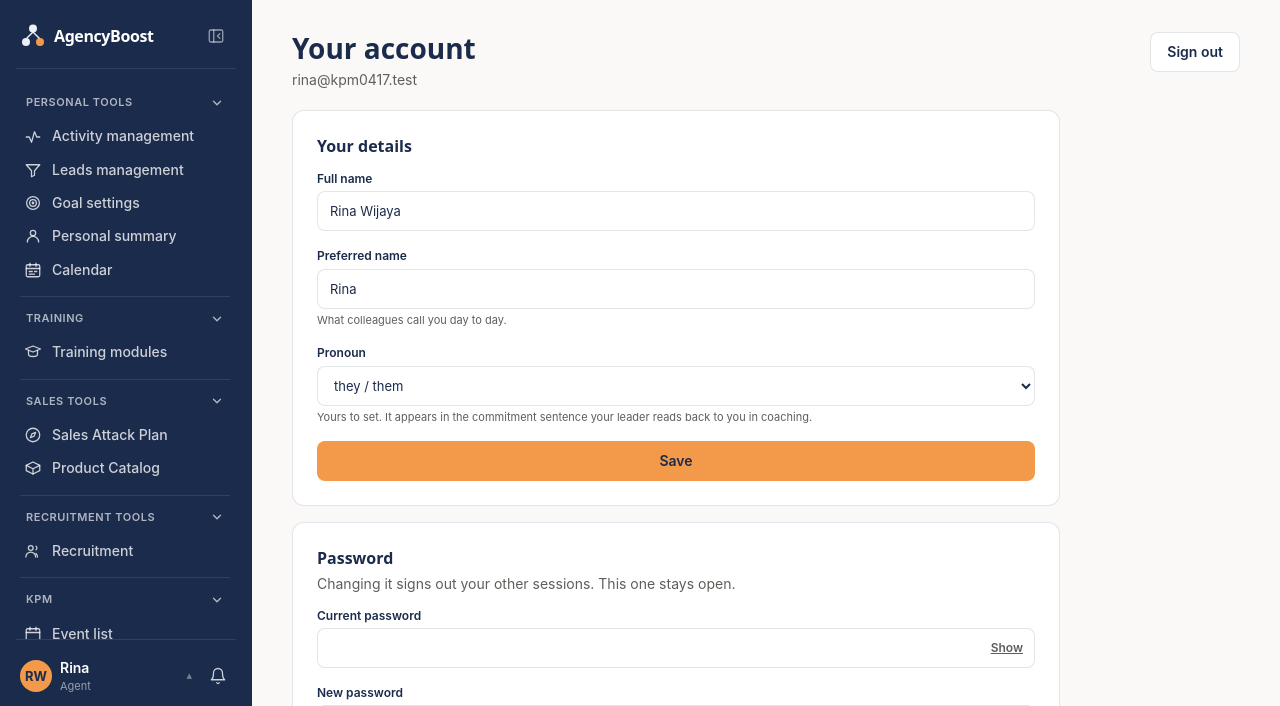
Test: profile › saves the details and confirms it
Replace the text in the field labelled "Preferred name" with "Rin": (676, 289) [317,269,1035,309]
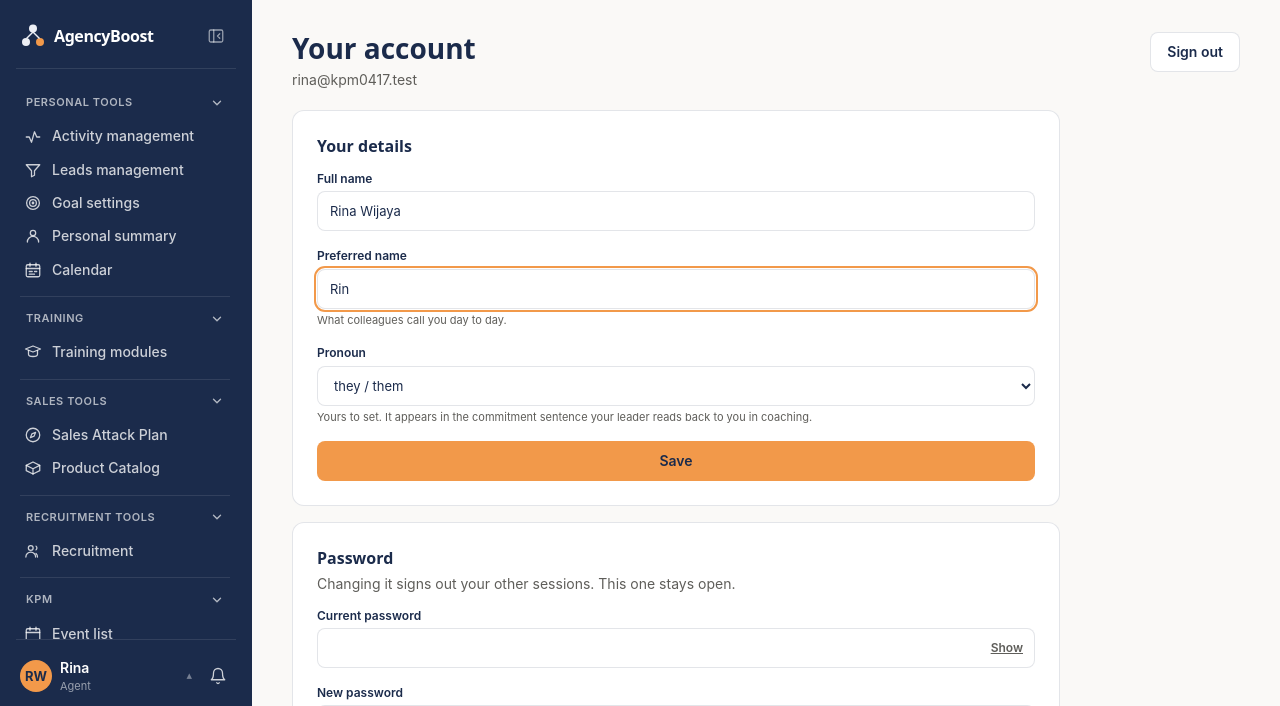
Select "she / her" in the dropdown labelled "Pronoun": (676, 386) [317,366,1035,406]
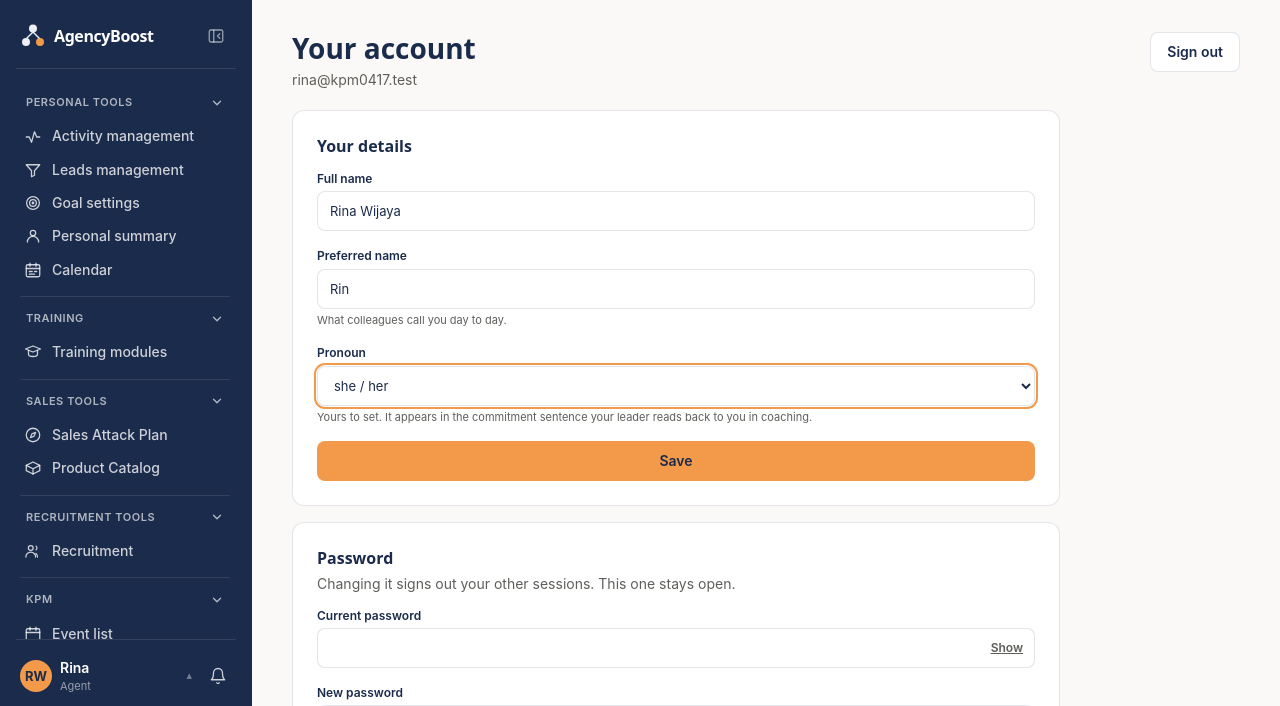
Click the button "Save": (676, 461) [317,441,1035,481]
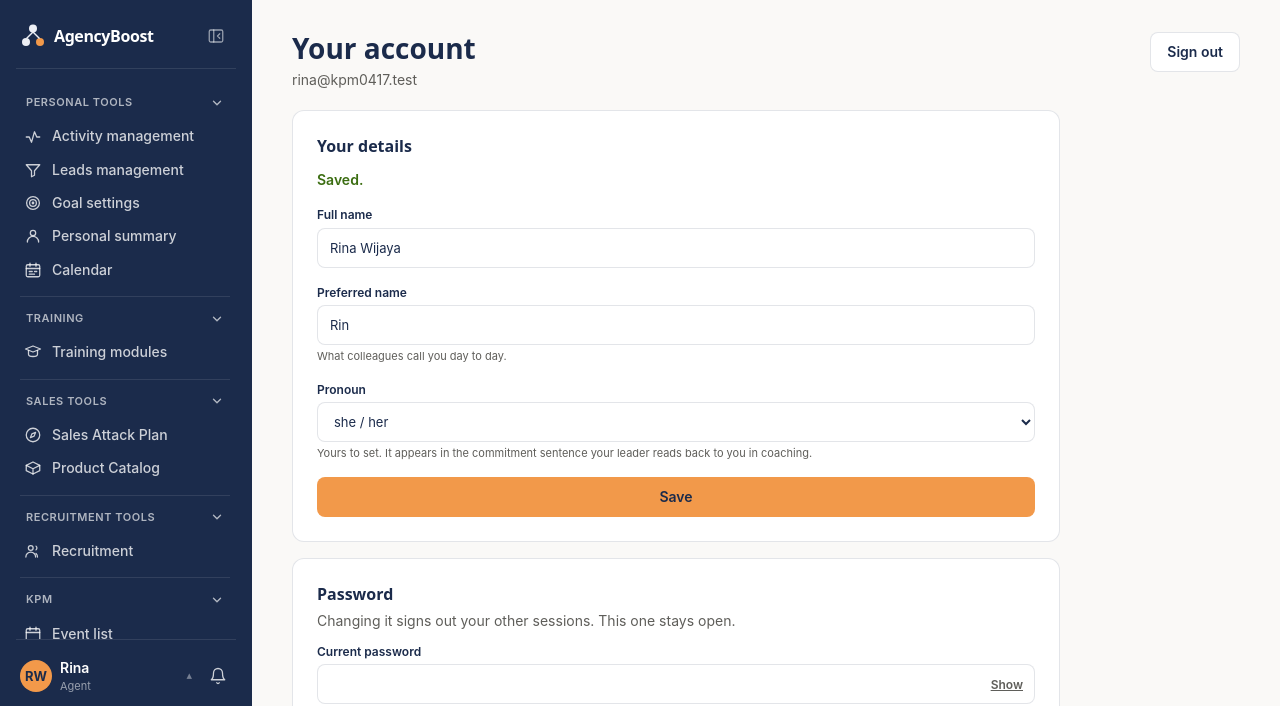
Check: the text "Saved." is shown, box [317,171,363,188]
